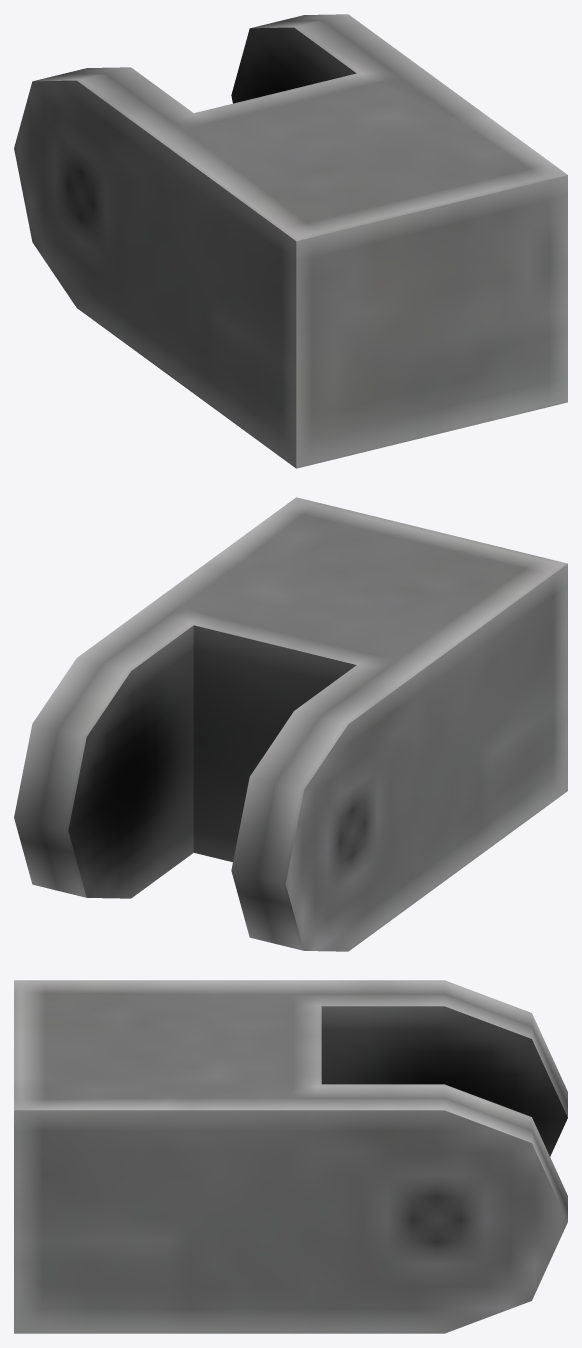
The model's file is low gain base.obj.
3 views of the same model, one above another, from view 1: azimuth 30°, elevation 25°; view 2: azimuth 150°, elevation 25°; view 3: azimuth 270°, elevation 25° (orthographic).
Visible parts, largest first — view 1: 1; view 2: 1; view 3: 1.
Part boxes in pixels (x1,y1,x2,y2): 1: (14, 14, 567, 468); 1: (14, 497, 567, 951); 1: (14, 980, 567, 1333).
Bounding box in the file's own units: 0.0625 × 0.05 × 0.1125.
1 material, 1 textured.
